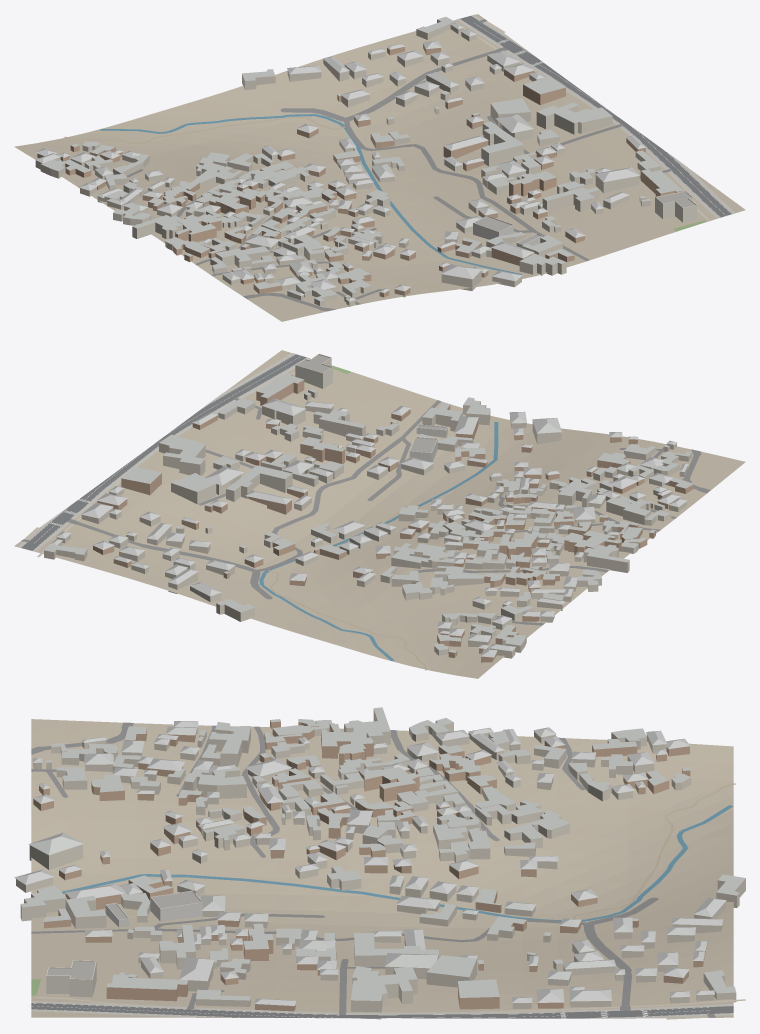
Rendered from bolak_-2_-2.glb.
3 renders of one model, top to bottom at view 1: azimuth 30°, elevation 25°; view 2: azimuth 150°, elevation 25°; view 3: azimuth 270°, elevation 25°, orthographic. The views are drawn at different scales.
Visible parts, largest first — view 1: Yer_Tuproq-col, Tom_Shifer, Devor_Suvoq-col, Devor_Gisht-col, Yol_Mahalla-col, Yol_Asfalt-col, Trotuar, Suv, Devor_Jamoat-col, Tom_Tekis, Devor_Dokon-col; view 2: Yer_Tuproq-col, Tom_Shifer, Devor_Suvoq-col, Devor_Gisht-col, Yol_Mahalla-col, Yol_Asfalt-col, Trotuar, Suv, Tom_Tekis, Devor_Jamoat-col, Devor_Dokon-col; view 3: Yer_Tuproq-col, Tom_Shifer, Devor_Suvoq-col, Devor_Gisht-col, Yol_Mahalla-col, Yol_Asfalt-col, Trotuar, Suv, Tom_Tekis, Devor_Dokon-col, Devor_Jamoat-col, Yol_Piyoda (+2 smaller).
Part boxes in pixels (box(x1,y1,x2,y2)): Yer_Tuproq-col: box(14, 14, 745, 321); Tom_Shifer: box(35, 17, 682, 301); Devor_Suvoq-col: box(35, 19, 660, 306); Devor_Gisht-col: box(37, 44, 682, 297); Yol_Mahalla-col: box(78, 19, 670, 311); Yol_Asfalt-col: box(460, 16, 731, 217); Trotuar: box(456, 14, 735, 218); Suv: box(100, 114, 522, 274); Devor_Jamoat-col: box(655, 191, 697, 222); Tom_Tekis: box(475, 192, 695, 244); Devor_Dokon-col: box(473, 215, 542, 247); Yer_Tuproq-col: box(14, 350, 745, 678); Tom_Shifer: box(44, 373, 693, 657); Devor_Suvoq-col: box(44, 390, 691, 658); Devor_Gisht-col: box(93, 375, 693, 662); Yol_Mahalla-col: box(21, 398, 710, 625); Yol_Asfalt-col: box(21, 354, 306, 550); Trotuar: box(18, 353, 310, 551); Suv: box(259, 422, 498, 660); Tom_Tekis: box(297, 355, 446, 452); Devor_Jamoat-col: box(295, 354, 332, 388); Devor_Dokon-col: box(409, 424, 447, 462); Yer_Tuproq-col: box(31, 719, 733, 1018); Tom_Shifer: box(14, 707, 745, 1005); Devor_Suvoq-col: box(16, 709, 745, 1019); Devor_Gisht-col: box(33, 720, 704, 1011); Yol_Mahalla-col: box(31, 722, 715, 1018); Yol_Asfalt-col: box(31, 1003, 733, 1018); Trotuar: box(31, 1001, 733, 1018); Suv: box(62, 805, 733, 921); Tom_Tekis: box(47, 892, 200, 979); Devor_Dokon-col: box(105, 890, 202, 927); Devor_Jamoat-col: box(46, 960, 96, 997); Yol_Piyoda: box(34, 996, 745, 1019).
Size of what is drawn, in the model's own units: 416 by 28.62 by 417.
